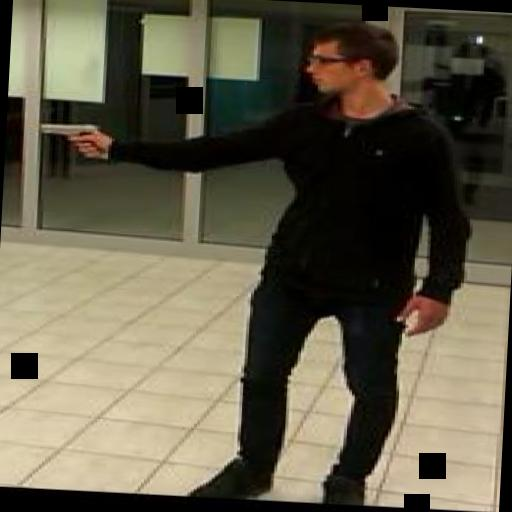Handgun: (28, 115, 112, 159)
